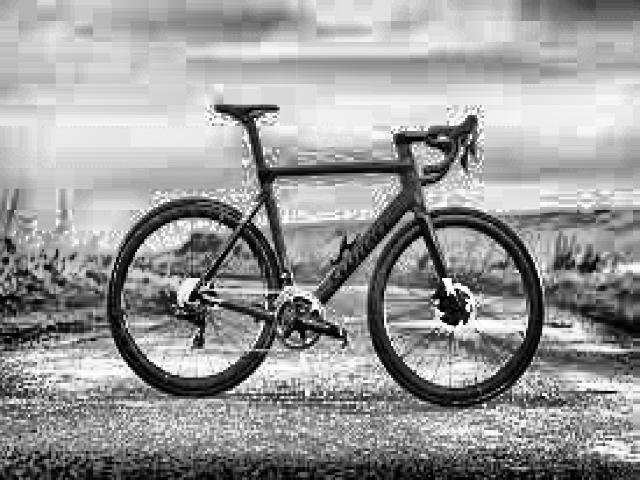cranks_set: (269, 291, 350, 353)
pedal: (342, 328, 348, 352)
rear_derailleur: (166, 302, 208, 348)
saddle: (213, 98, 281, 125)
sti_shifter: (461, 114, 479, 172)
wheel: (366, 203, 548, 411), (105, 196, 282, 399)
